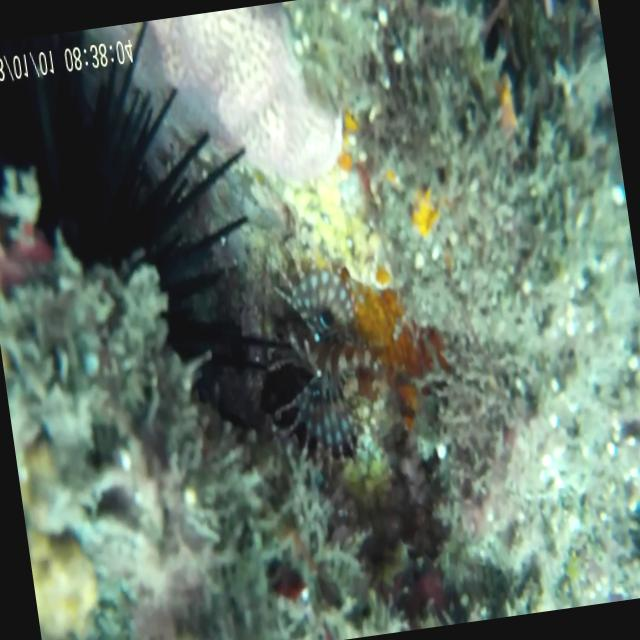Aslan Baligi: (230, 242, 408, 510)
